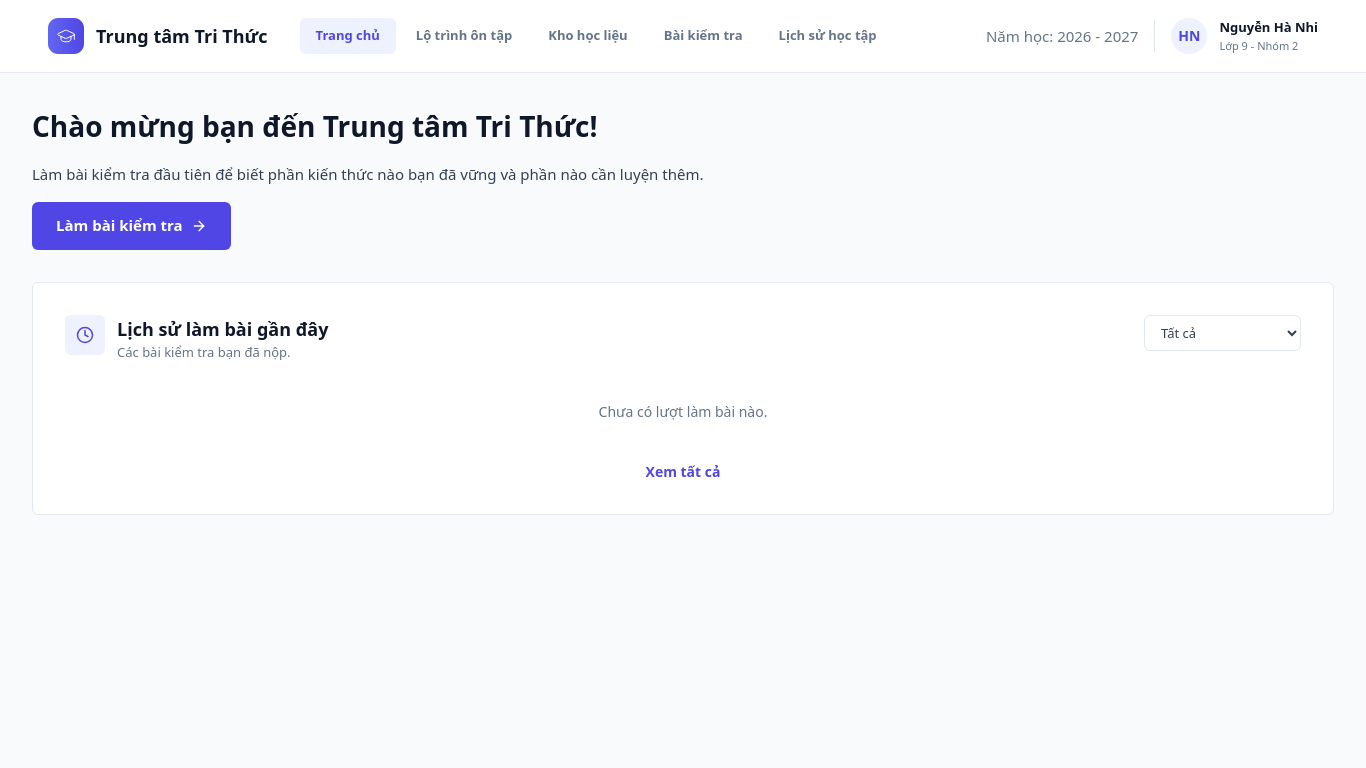
Test: đăng nhập › đăng xuất thì về màn chọn vai trò
This screenshot has width=1366, height=768.
Click the button "HN Nguyễn Hà Nhi Lớp 9 - Nhóm 2". click: (1245,36)
box: x1=1171 y1=14 x2=1318 y2=58
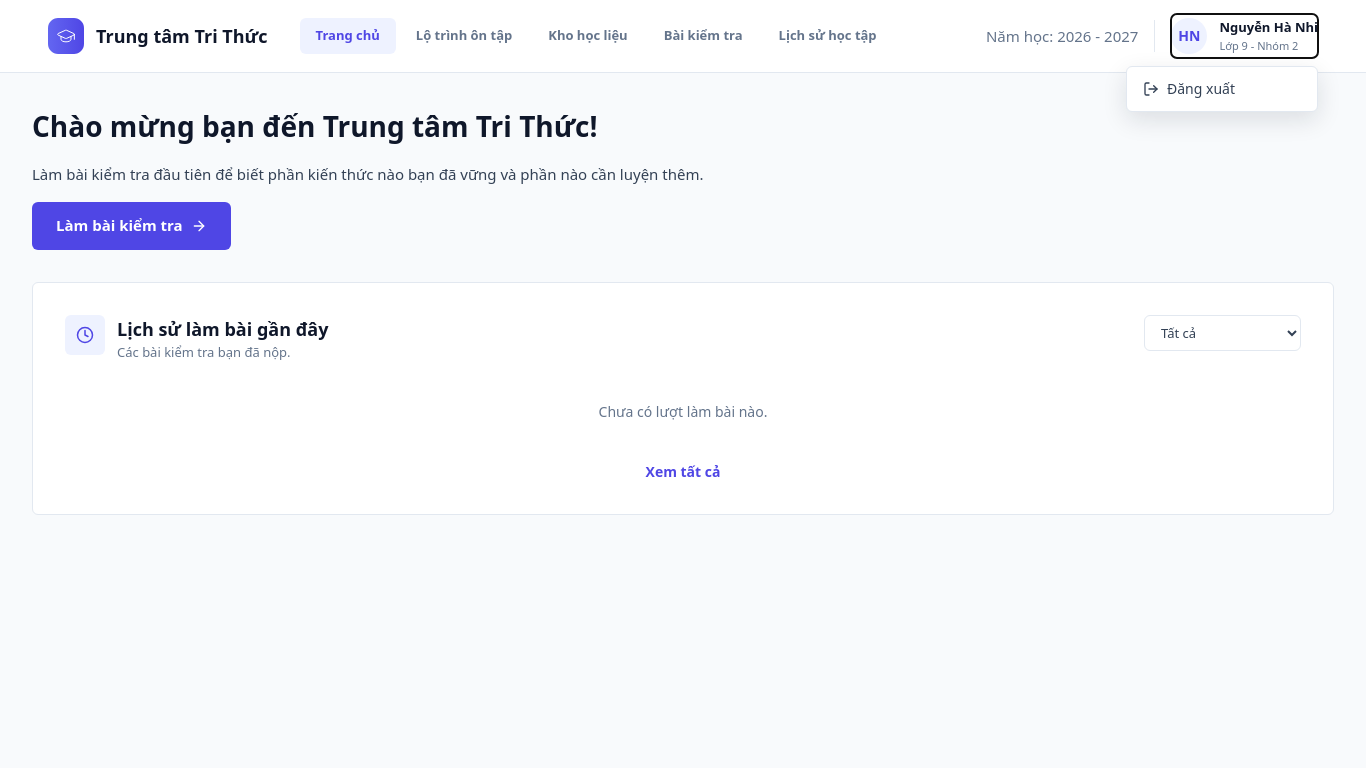
Click the button "Đăng xuất". click: (1222,89)
box: x1=1131 y1=71 x2=1313 y2=107
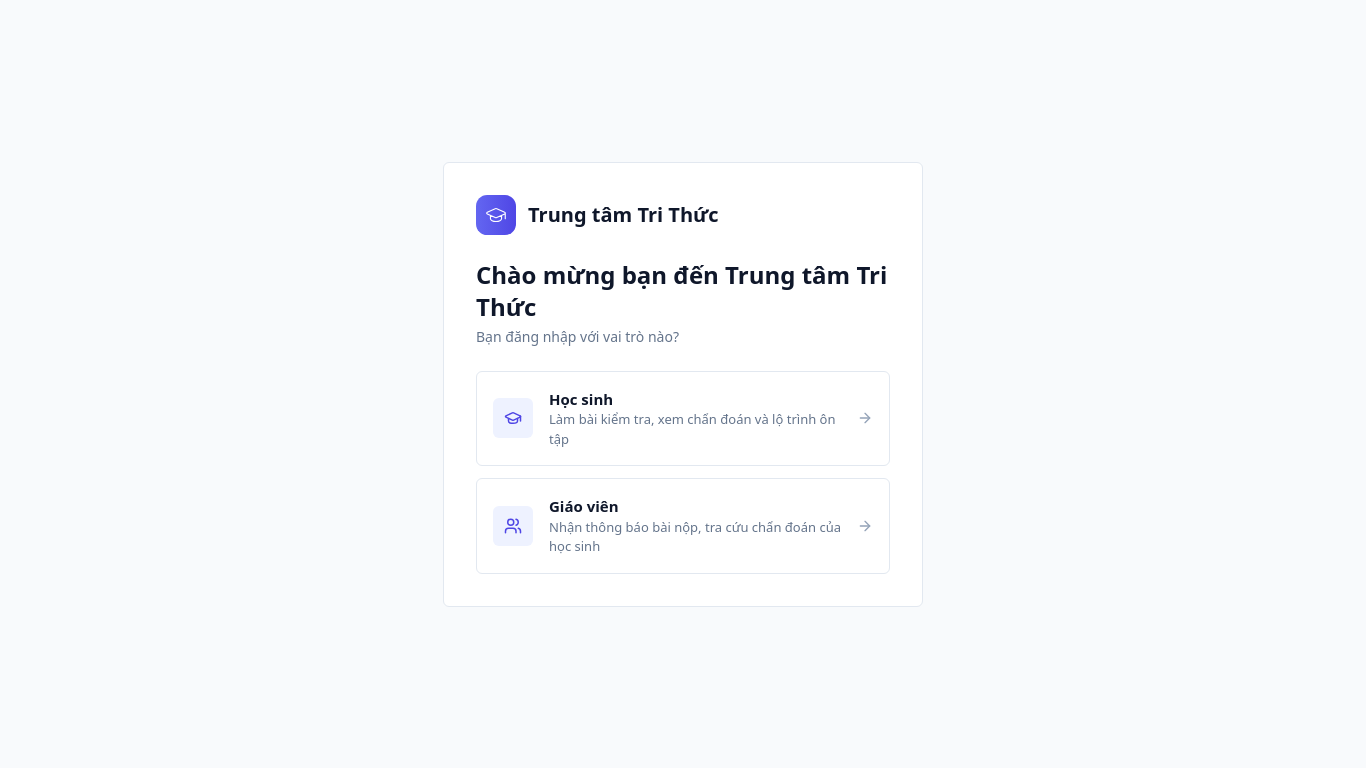
Expected: the text "Bạn đăng nhập với vai trò nào?" is shown, x1=476 y1=326 x2=679 y2=346
